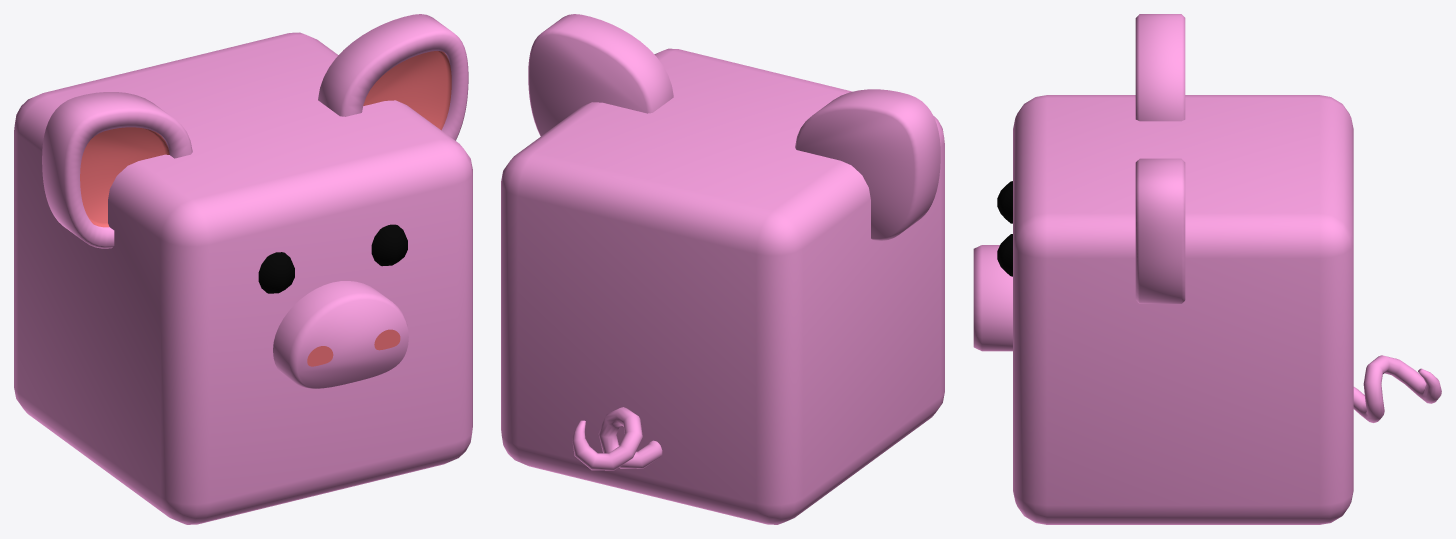
The model's file is Pig.fbx.
3 views of the same model, side by side, from view 1: azimuth 30°, elevation 25°; view 2: azimuth 150°, elevation 25°; view 3: azimuth 270°, elevation 25° (orthographic). The views are drawn at different scales.
Parts seen in each view (by area): view 1: Pig; view 2: Pig; view 3: Pig.
Part boxes in pixels (x1,y1,x2,y2): Pig: [14, 14, 472, 524]; Pig: [501, 14, 944, 524]; Pig: [973, 14, 1441, 524].
Bounding box in the file's own units: 263 × 239 × 275.
